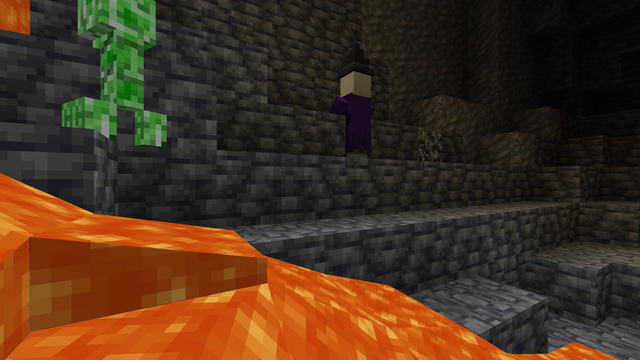creepers: (71, 0, 152, 148)
sorcieres: (336, 65, 374, 142)
